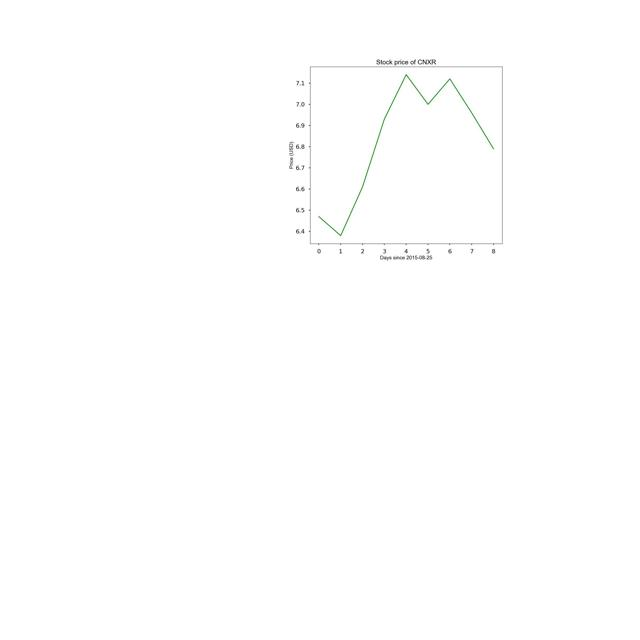Graph: (235, 39, 569, 269)
